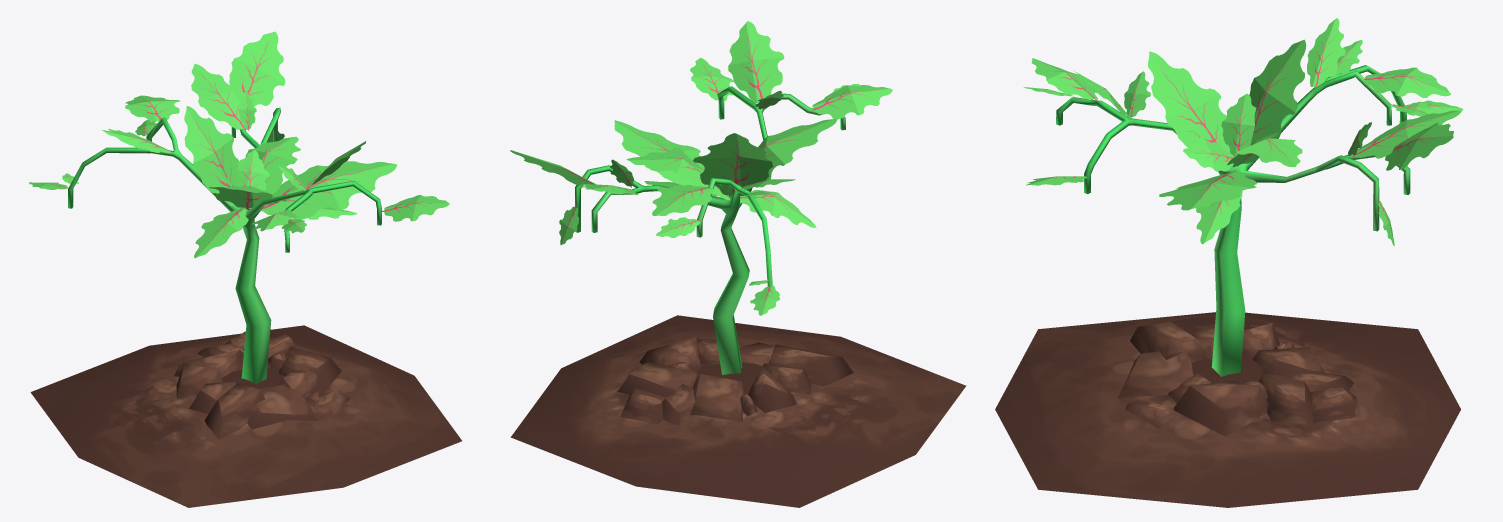
The model's file is EggplantPlant.fbx.
The picture shows the model from 3 angles, left to right: view 1: azimuth 30°, elevation 25°; view 2: azimuth 150°, elevation 25°; view 3: azimuth 270°, elevation 25°; orthographic projection. The views are drawn at different scales.
Parts seen in each view (by area): view 1: Dirtplane, EggplantLeaves, EggplantPlant; view 2: Dirtplane, EggplantLeaves, EggplantPlant; view 3: Dirtplane, EggplantLeaves, EggplantPlant.
Boxes of the visible parts, <box> form: Dirtplane: <box>30,325,461,507</box>; EggplantLeaves: <box>29,31,449,258</box>; EggplantPlant: <box>68,107,381,384</box>; Dirtplane: <box>510,315,966,507</box>; EggplantLeaves: <box>510,21,892,315</box>; EggplantPlant: <box>575,86,845,374</box>; Dirtplane: <box>995,312,1460,507</box>; EggplantLeaves: <box>1023,18,1463,245</box>; EggplantPlant: <box>1056,65,1410,376</box>.
Size of the model in its own units: 189 by 167 by 200.
